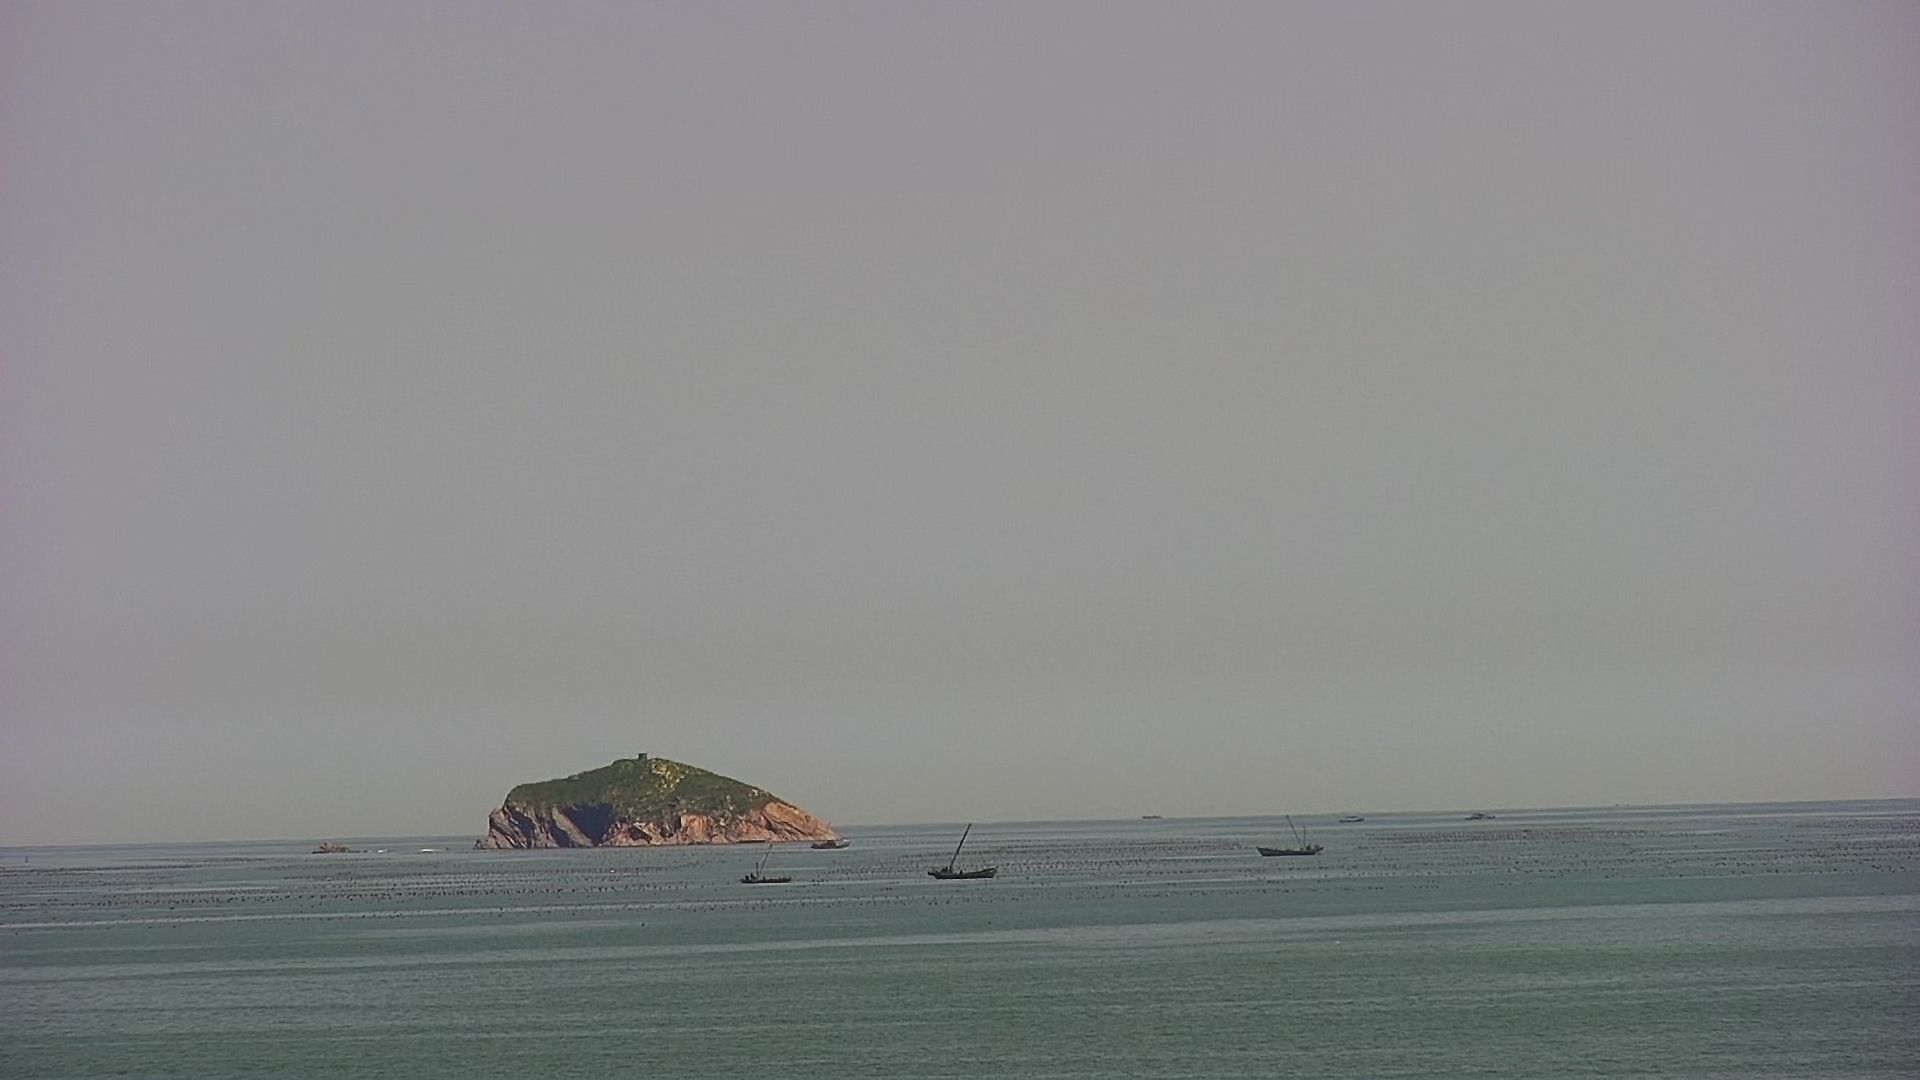boat: (924, 819, 1004, 884), (1251, 808, 1327, 860), (732, 837, 796, 885)
rock: (463, 750, 849, 848)
